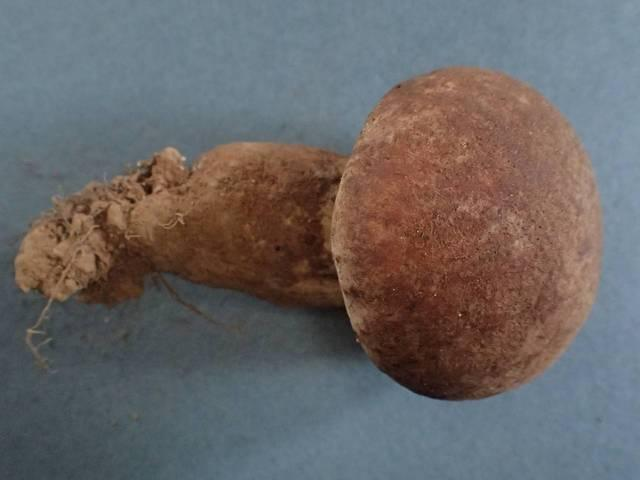Edible Mushroom: (0, 64, 603, 405)
